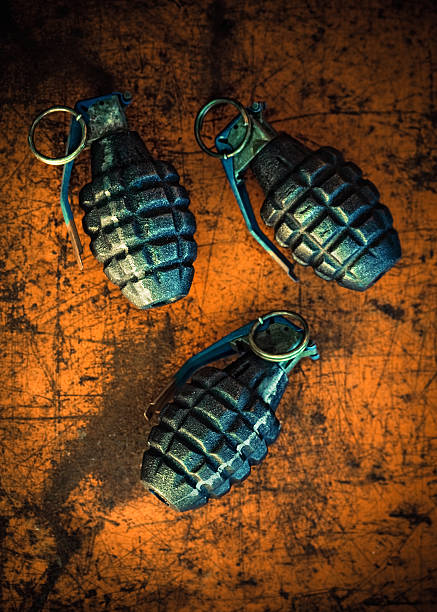e1: (199, 96, 401, 288), (27, 94, 196, 307), (140, 312, 320, 506)
